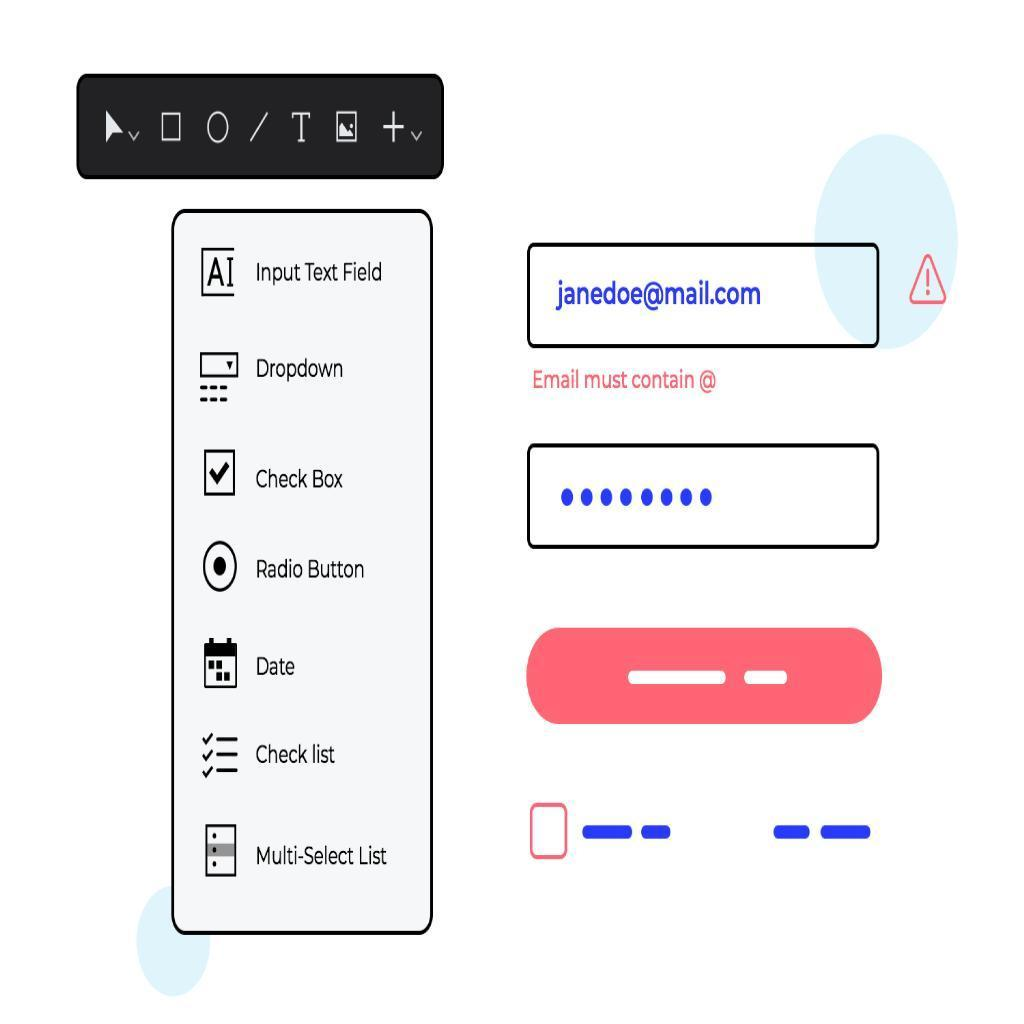button: (531, 622, 883, 725)
checkbox: (530, 804, 569, 858), (204, 448, 237, 498)
icon: (195, 817, 245, 888), (196, 730, 247, 791), (199, 630, 245, 697), (195, 239, 243, 303), (906, 254, 952, 314)
input: (530, 245, 877, 349), (531, 446, 875, 547)
radio: (202, 539, 243, 598)
